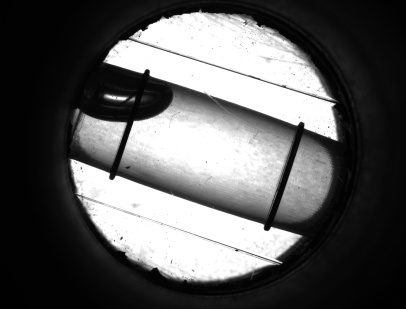line: (264, 140, 302, 210), (109, 129, 135, 159)
